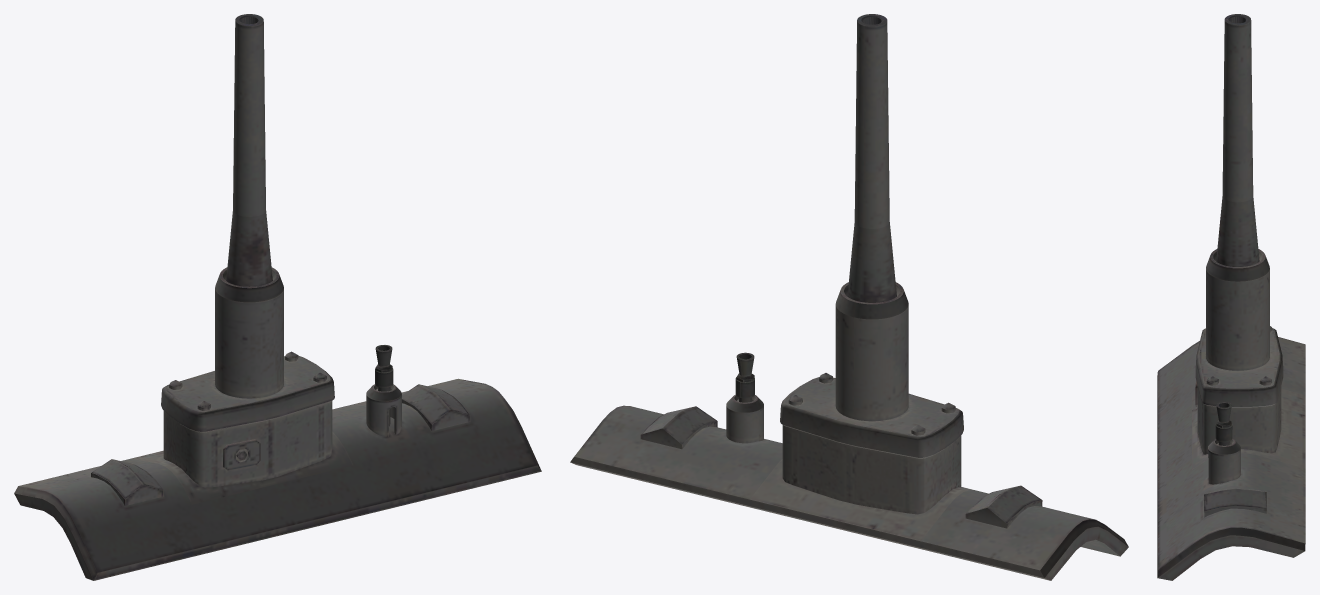
The model's file is Gun_02.glb.
3 views of the same model, side by side, from view 1: azimuth 30°, elevation 25°; view 2: azimuth 150°, elevation 25°; view 3: azimuth 270°, elevation 25° (orthographic). The views are drawn at different scales.
Parts seen in each view (by area): view 1: set_0_group_0; view 2: set_0_group_0; view 3: set_0_group_0.
Part boxes in pixels (x1,y1,x2,y2): set_0_group_0: (14, 14, 541, 580); set_0_group_0: (570, 14, 1128, 580); set_0_group_0: (1157, 14, 1305, 580).
Size of the model in its own units: 1.43 by 1.48 by 0.4416.
1 material, 1 textured.
